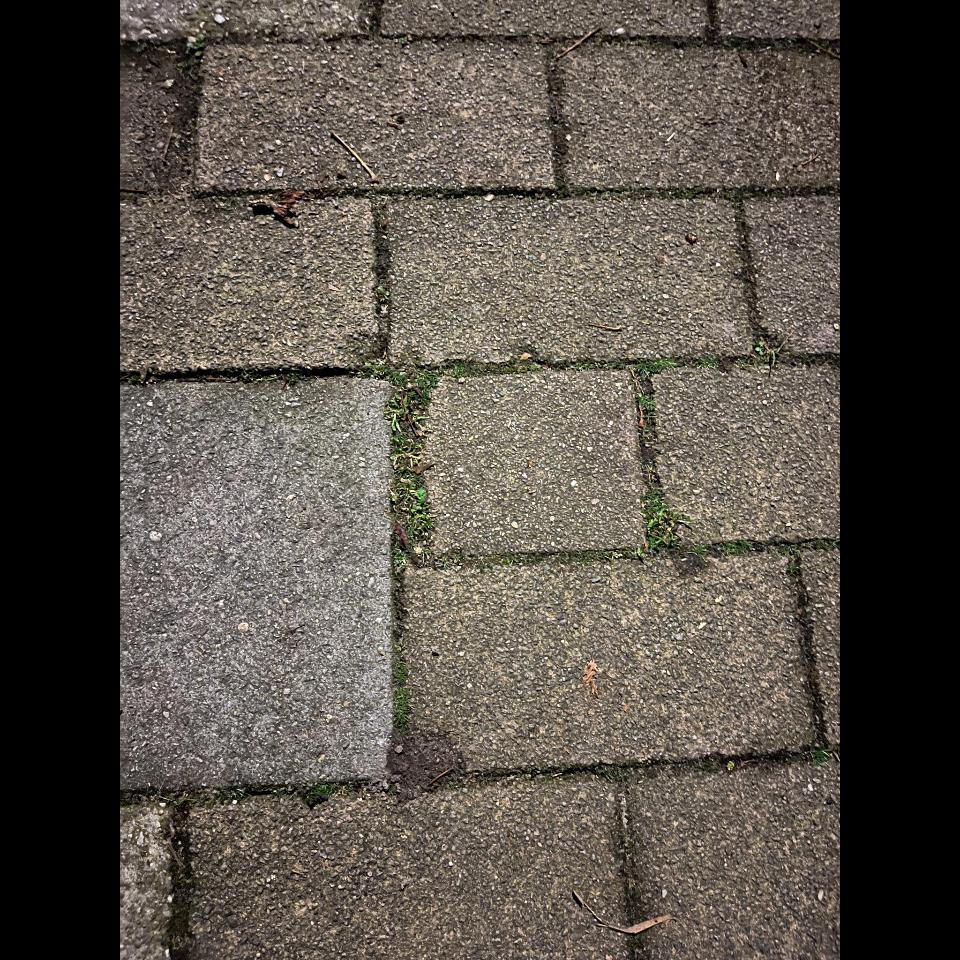weed: (390, 335, 840, 555), (386, 370, 439, 570), (630, 361, 680, 553), (644, 489, 679, 552), (393, 660, 410, 730)
